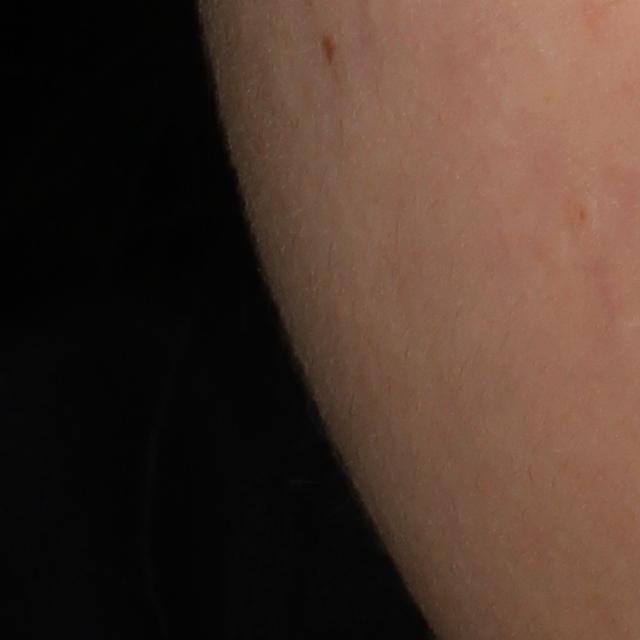nevus: (318, 31, 340, 66)
